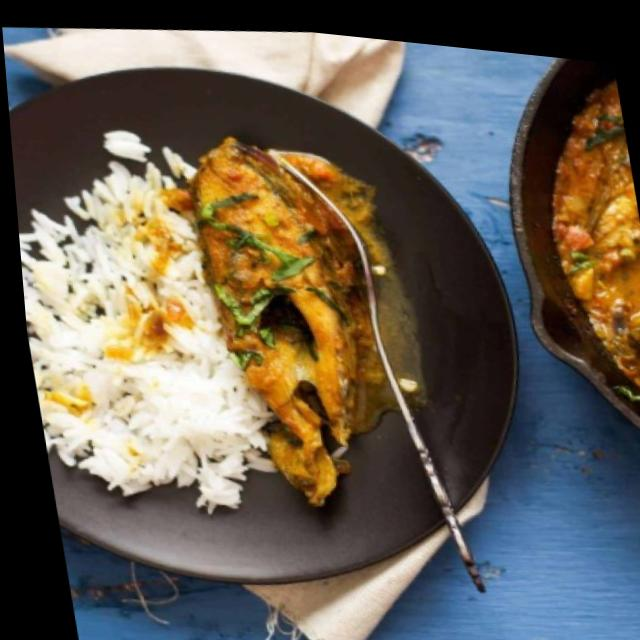FISH CURRY: (21, 135, 369, 512)
